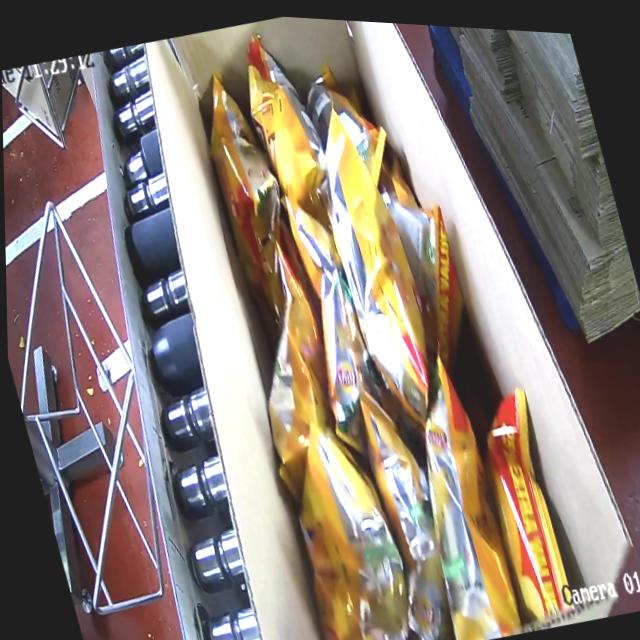FRENCH_CHEESE: (168, 10, 590, 640)
